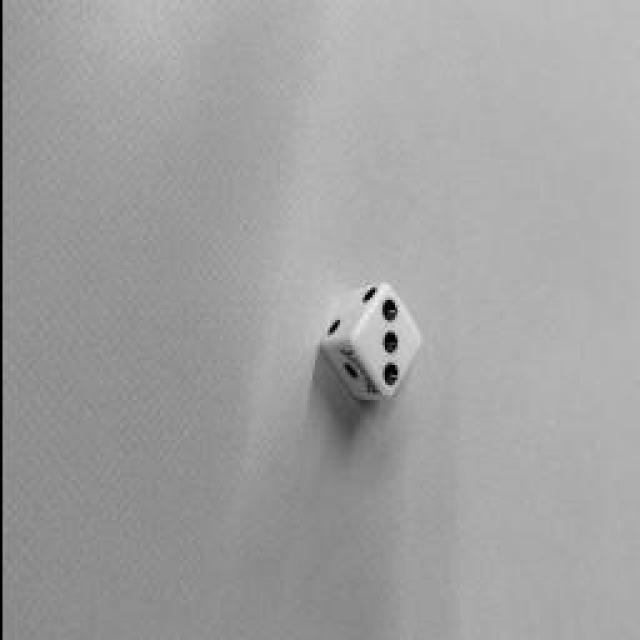dice_3: (350, 285, 420, 400)
